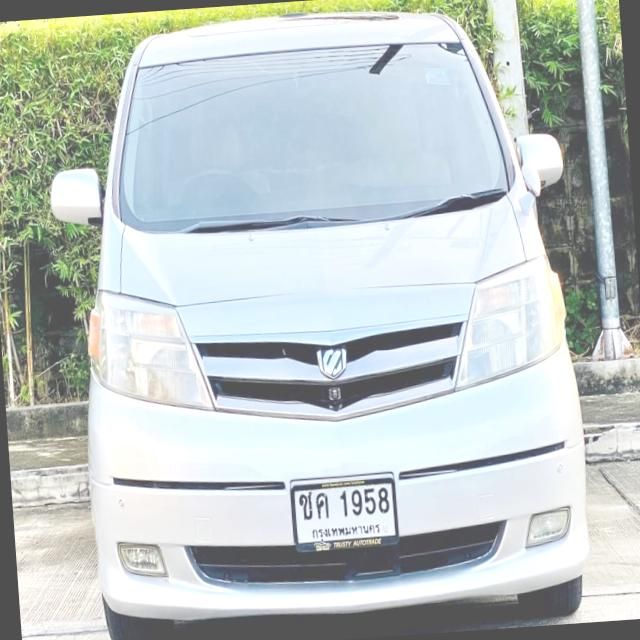license_plate: (288, 476, 402, 555)
